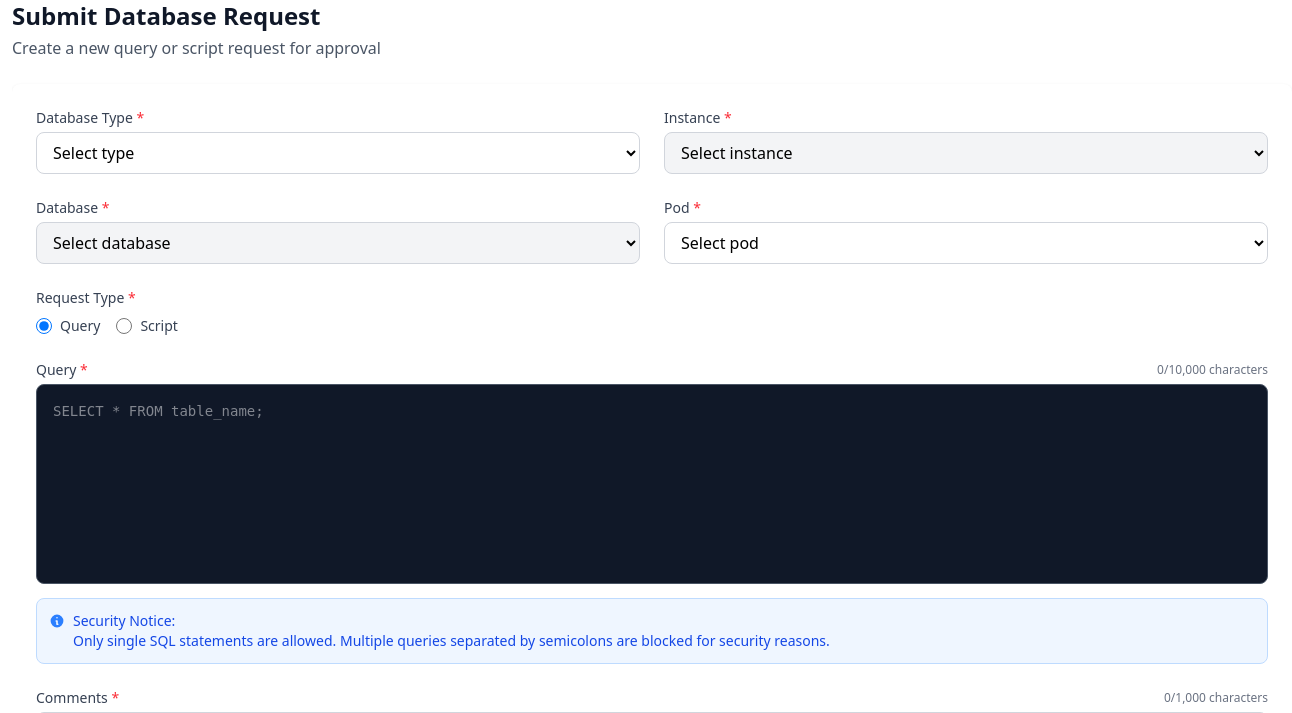
Test: SubmitRequest › should handle network error on submission
# Fill form
Select "POSTGRES" in the dropdown below "Database Type" at (338, 153), box [36, 132, 640, 174]
Select "test-instance" in the dropdown below "Instance" at (966, 153), box [664, 132, 1268, 174]
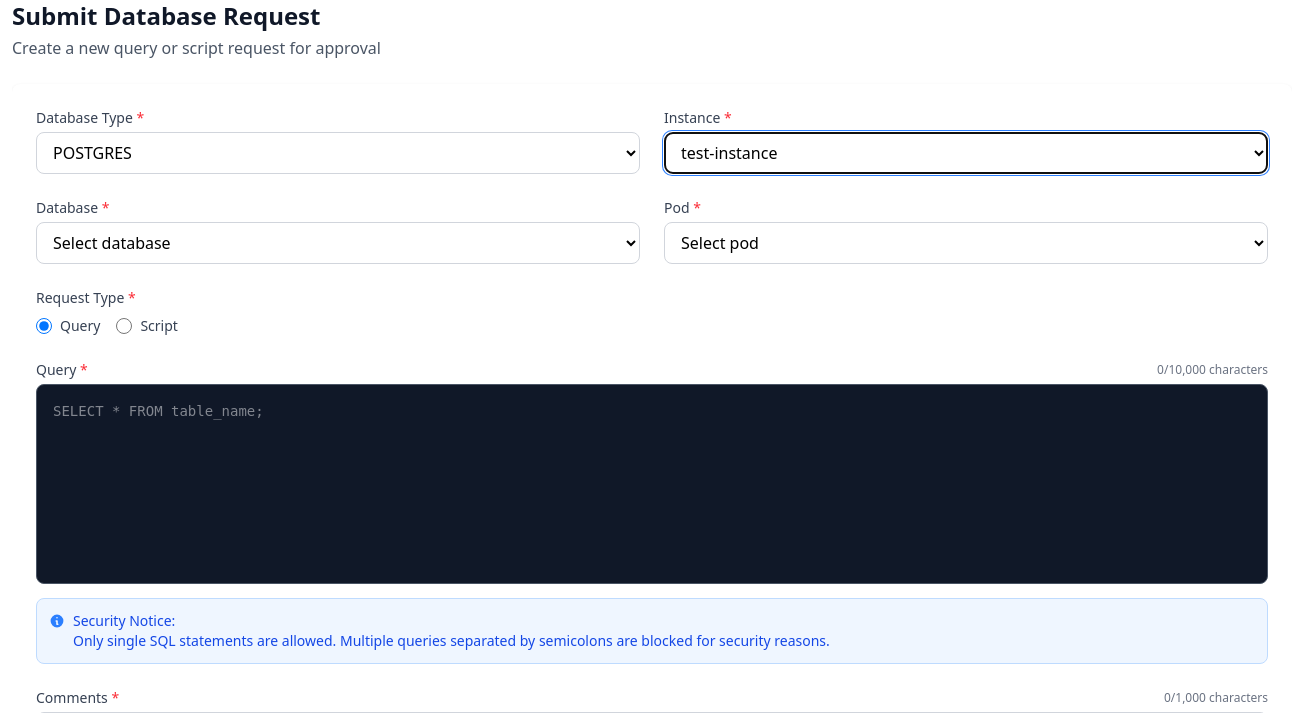
Select "test_db" in the 3rd dropdown at (338, 243), box [36, 222, 640, 264]
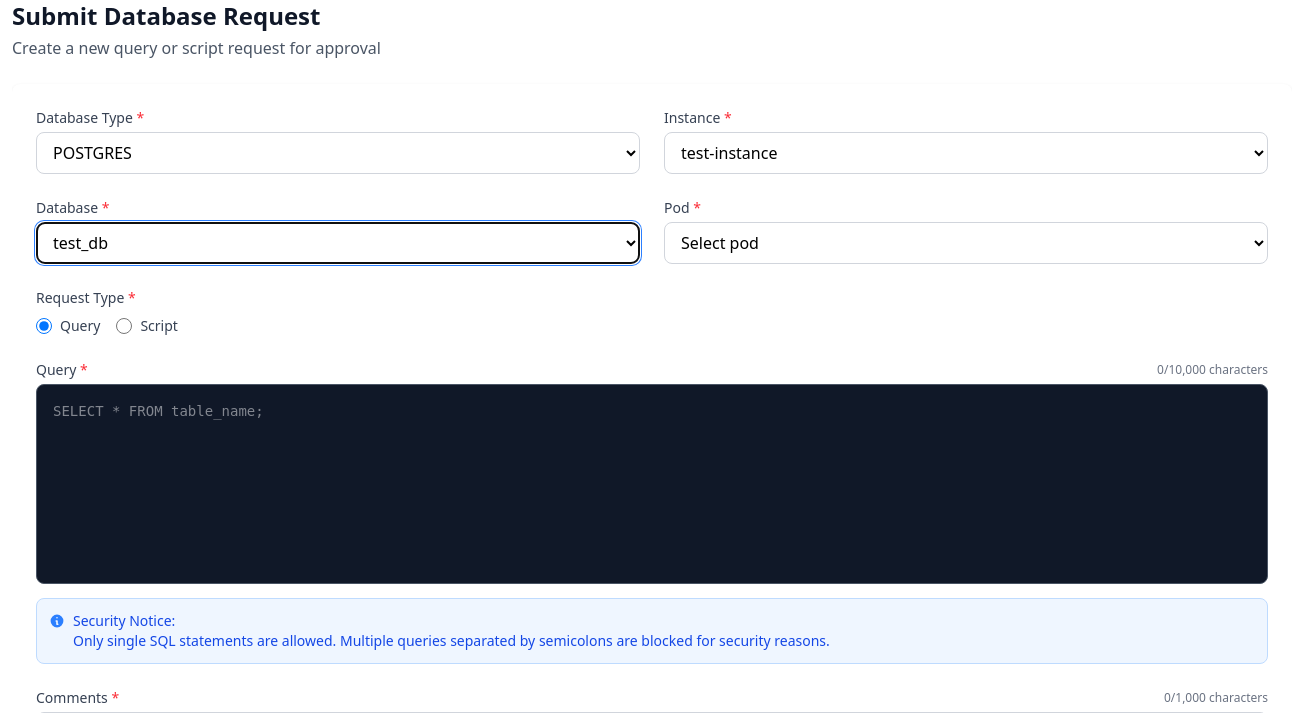
Select "Pod 1" in the dropdown below "Pod" at (966, 243), box [664, 222, 1268, 264]
(page scrolled)
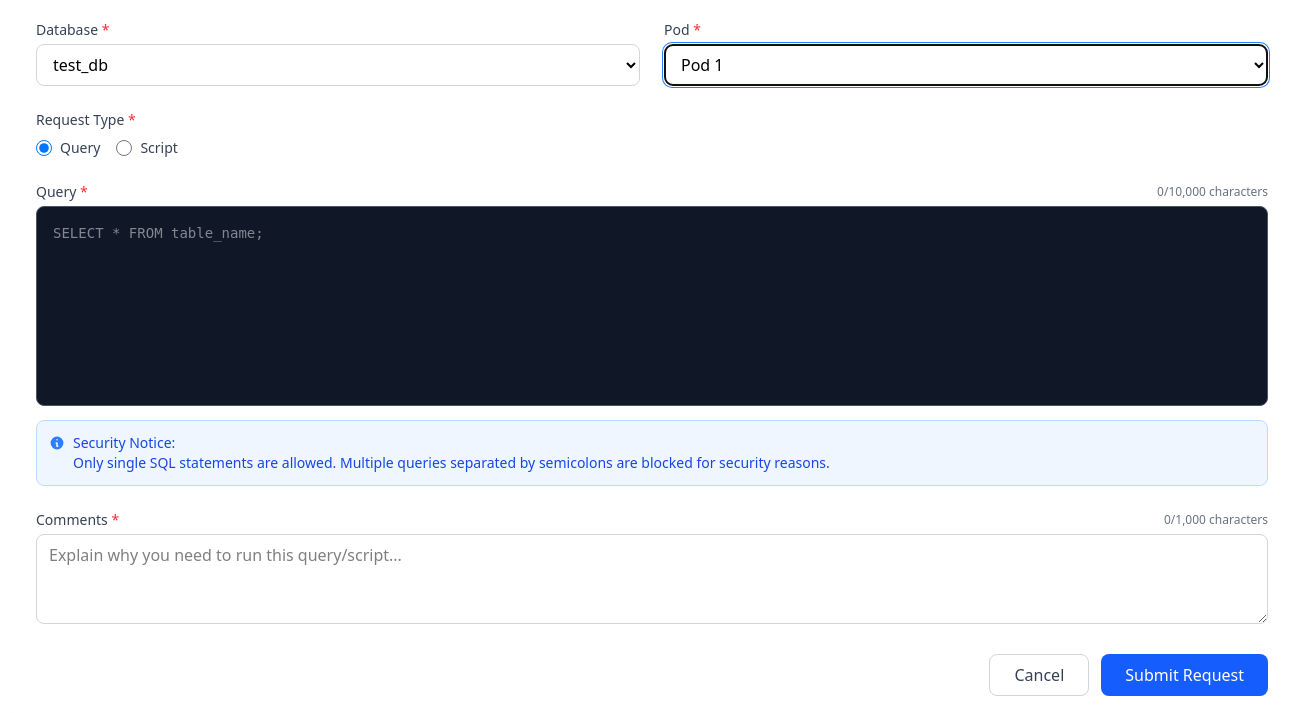
Type "Test query" into the text box with placeholder "Explain why you need to run this query/script..." at (652, 579), box [36, 534, 1268, 624]
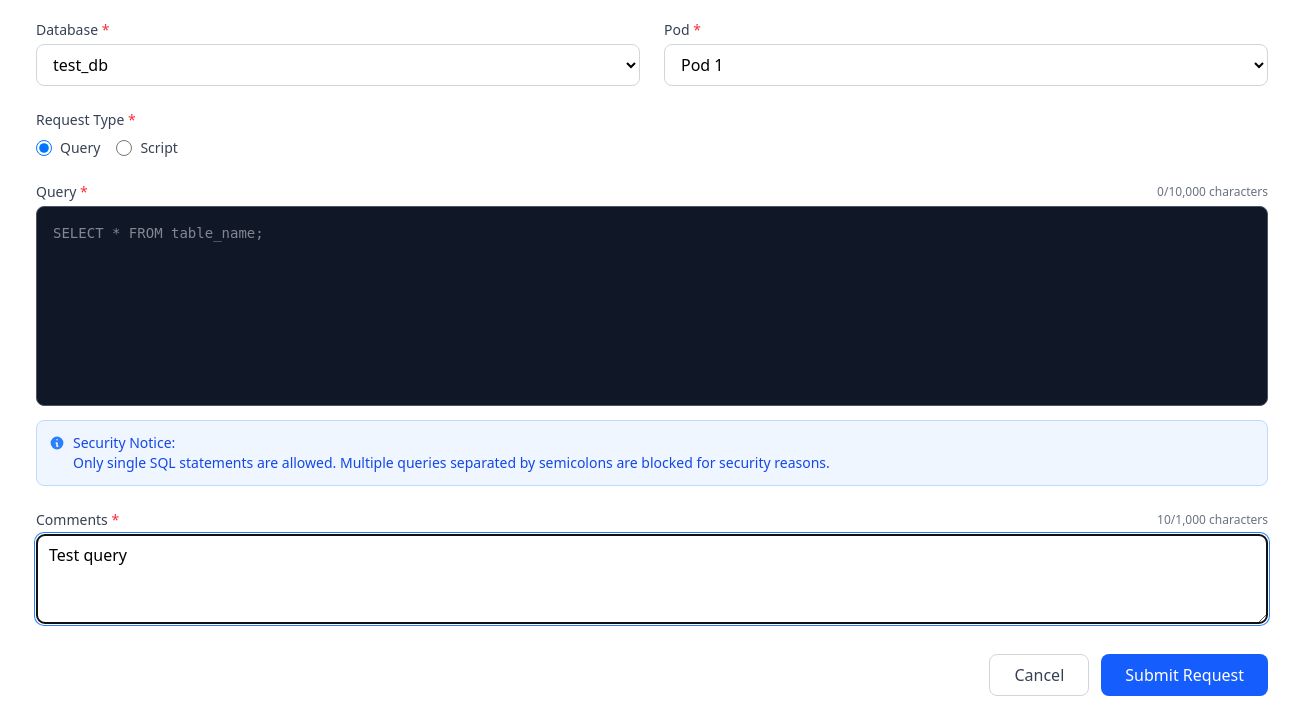
Type "SELECT * FROM users" into the text box with placeholder "SELECT * FROM table_name;" at (652, 306), box [36, 206, 1268, 406]
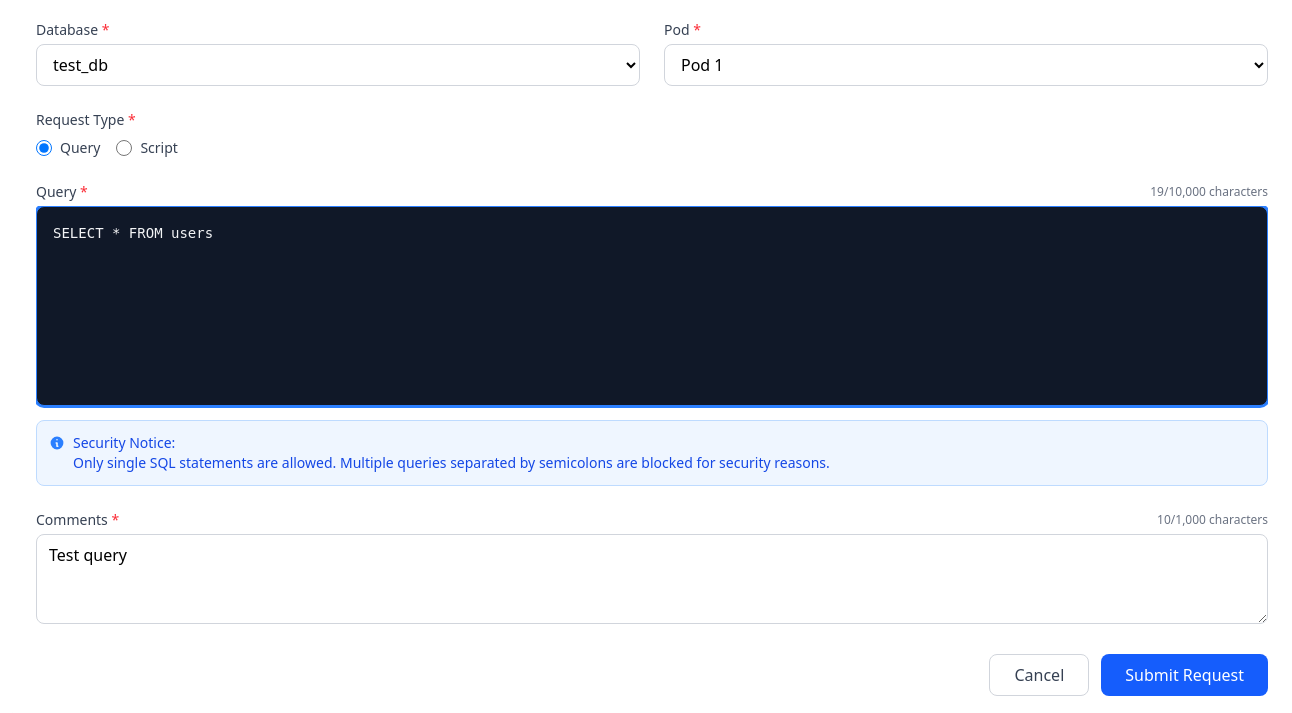
Click the button "Submit Request" at (1185, 675), box [1101, 654, 1268, 696]
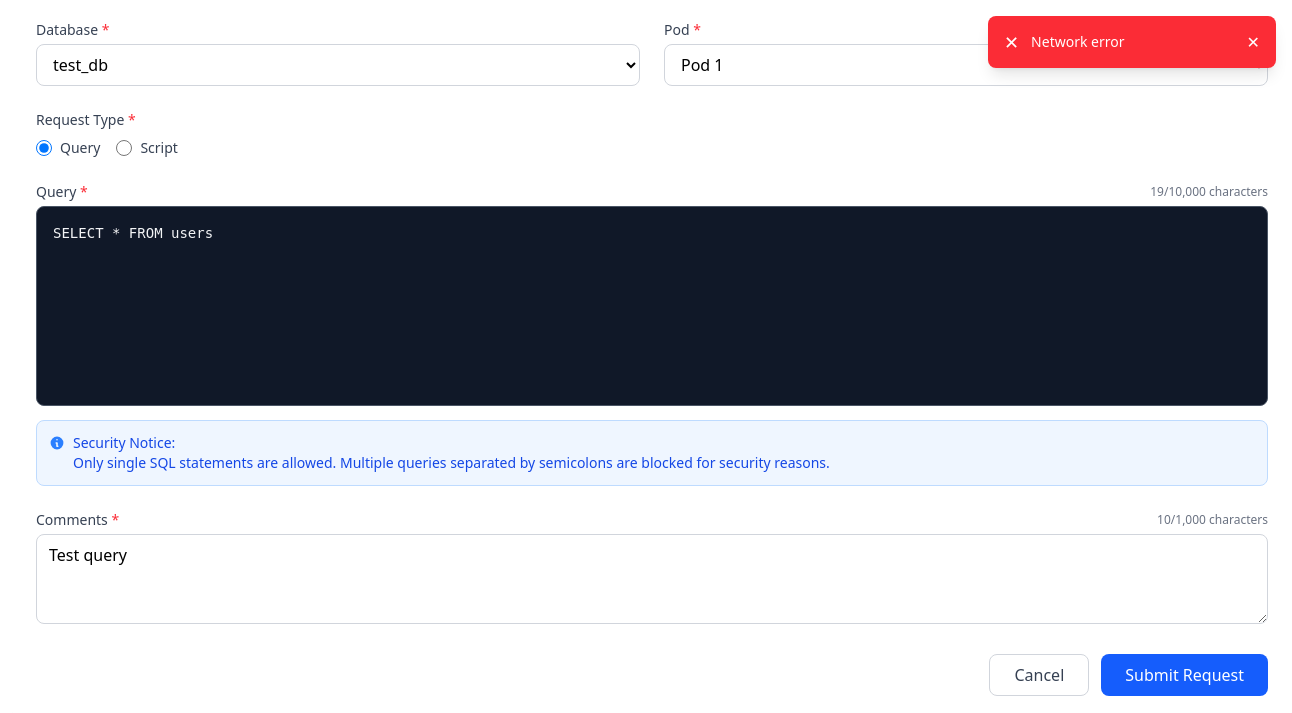
Expected: the text "Network error" is shown, [1031, 32, 1124, 51]
